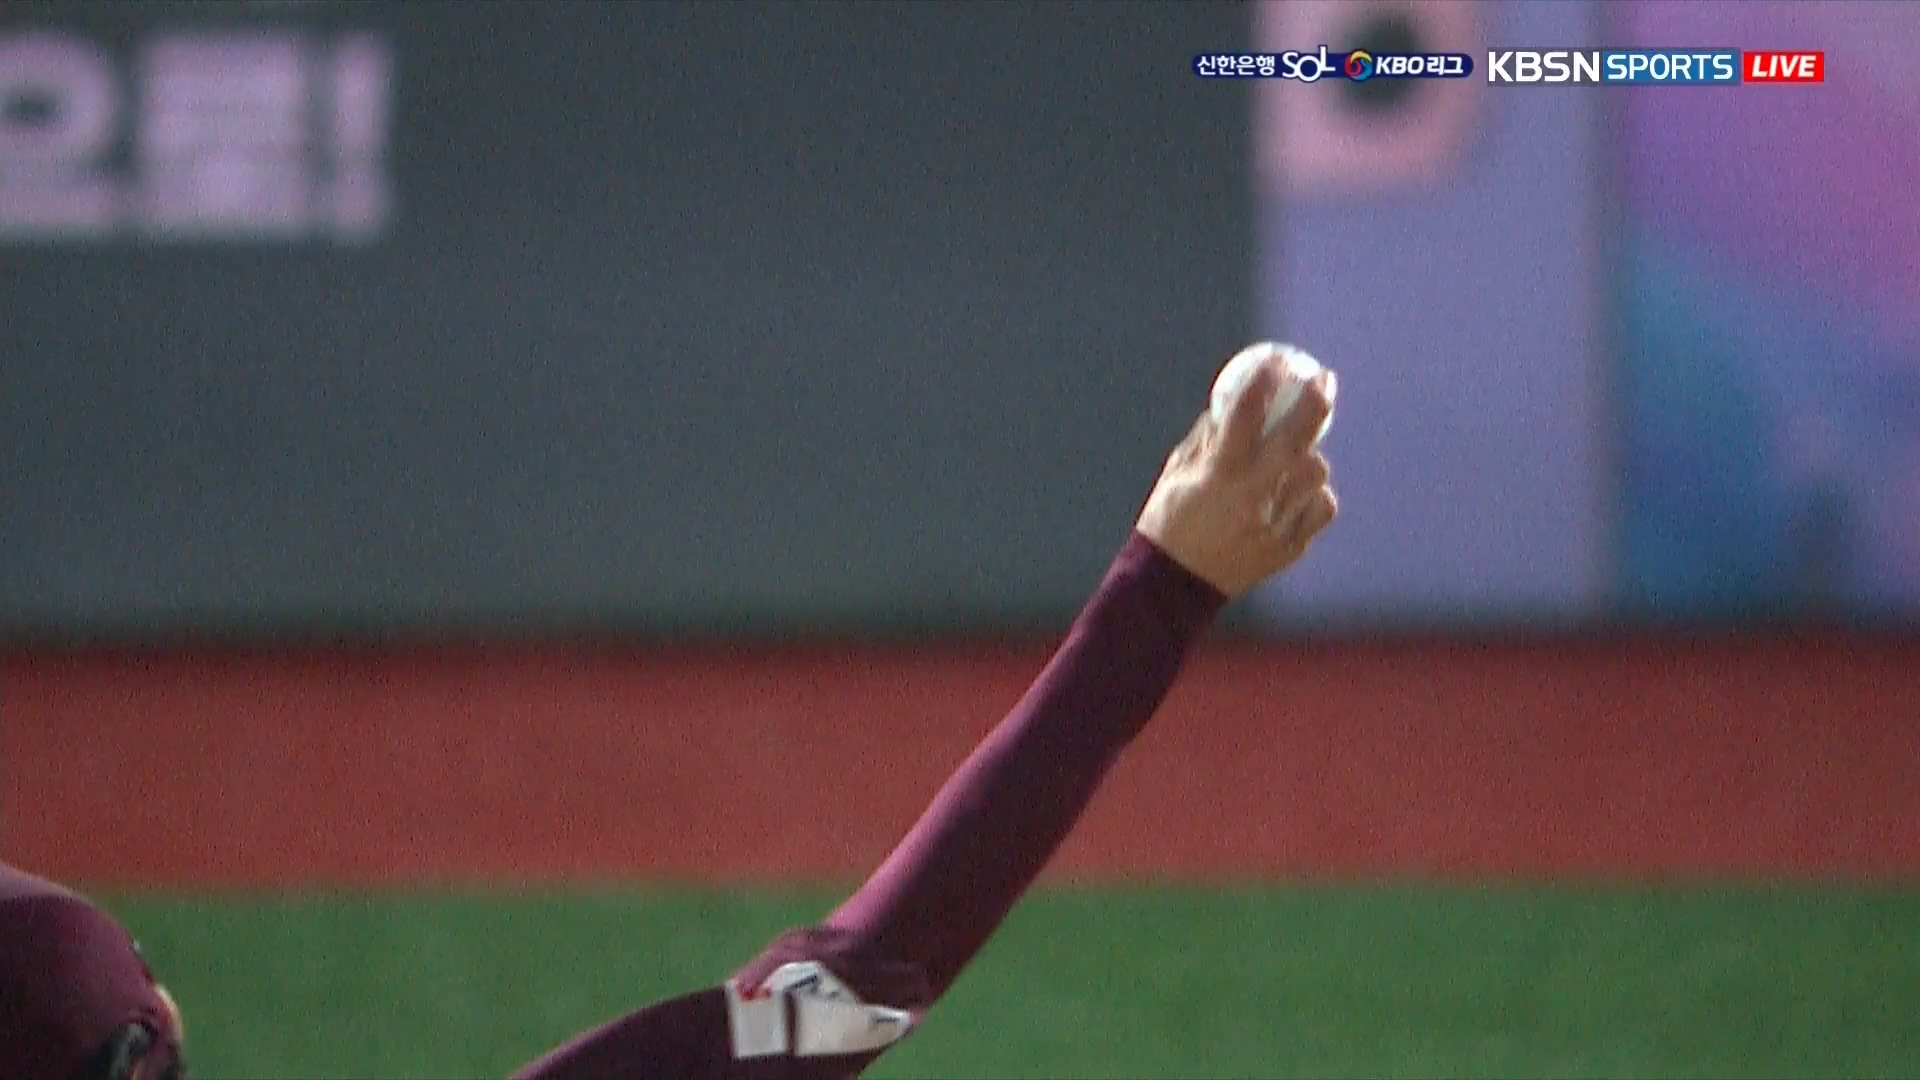zoomin_hand: (847, 338, 1361, 1063)
